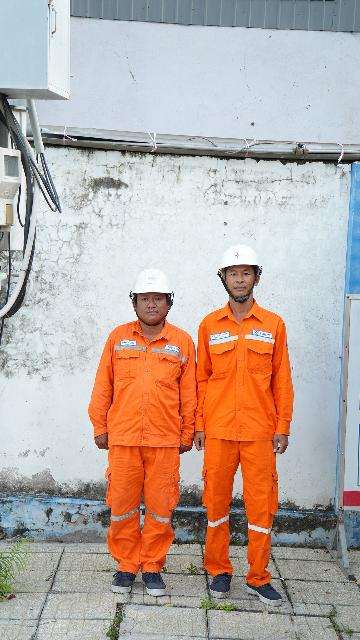helmet: (208, 234, 276, 284), (115, 267, 183, 306)
shoes: (243, 569, 288, 615), (194, 554, 233, 602), (103, 554, 143, 600), (132, 557, 171, 603)
